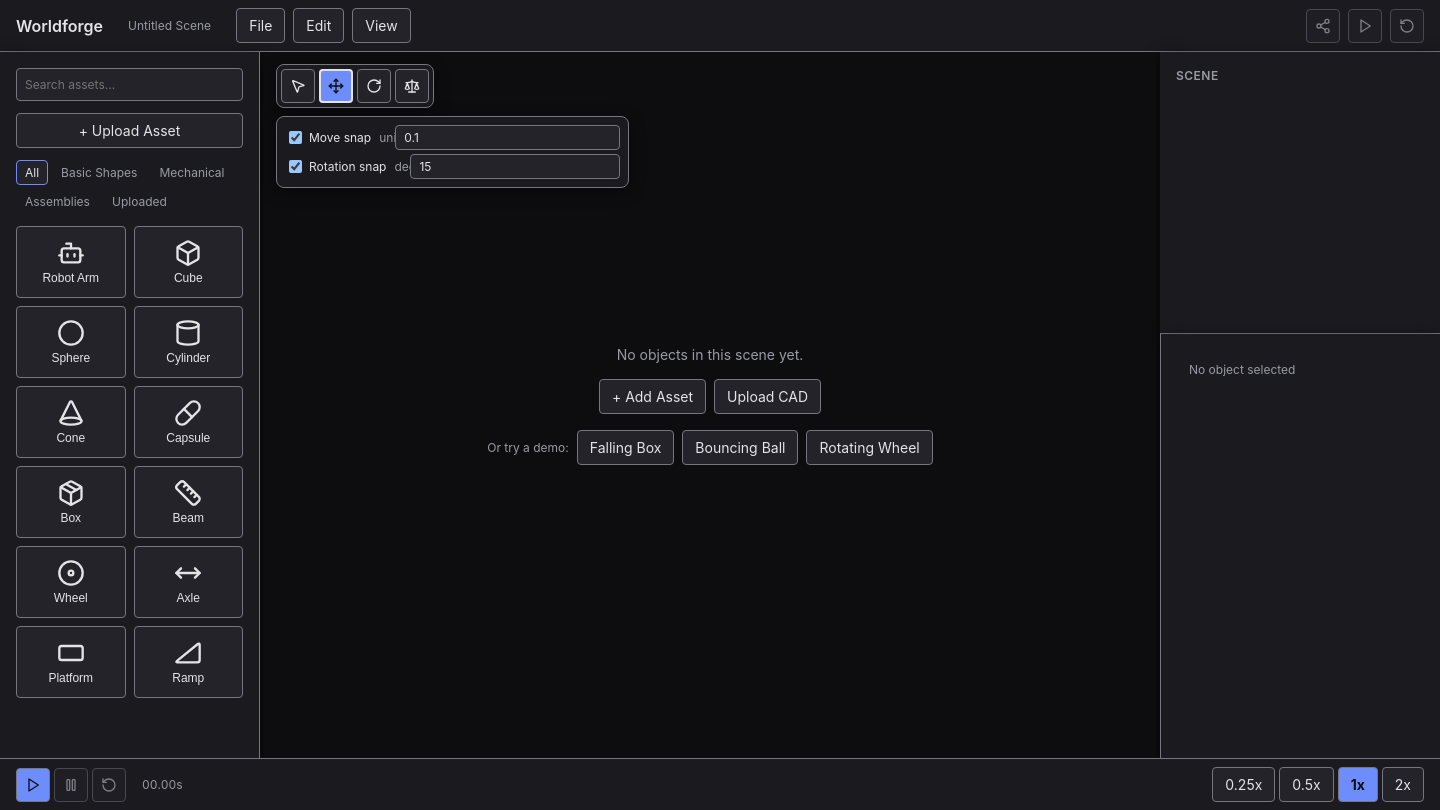
Test: AppShell › opens a File menu dropdown and closes it on Escape
The image size is (1440, 810).
Click the button "File" at (261, 26), box [236,8,285,43]
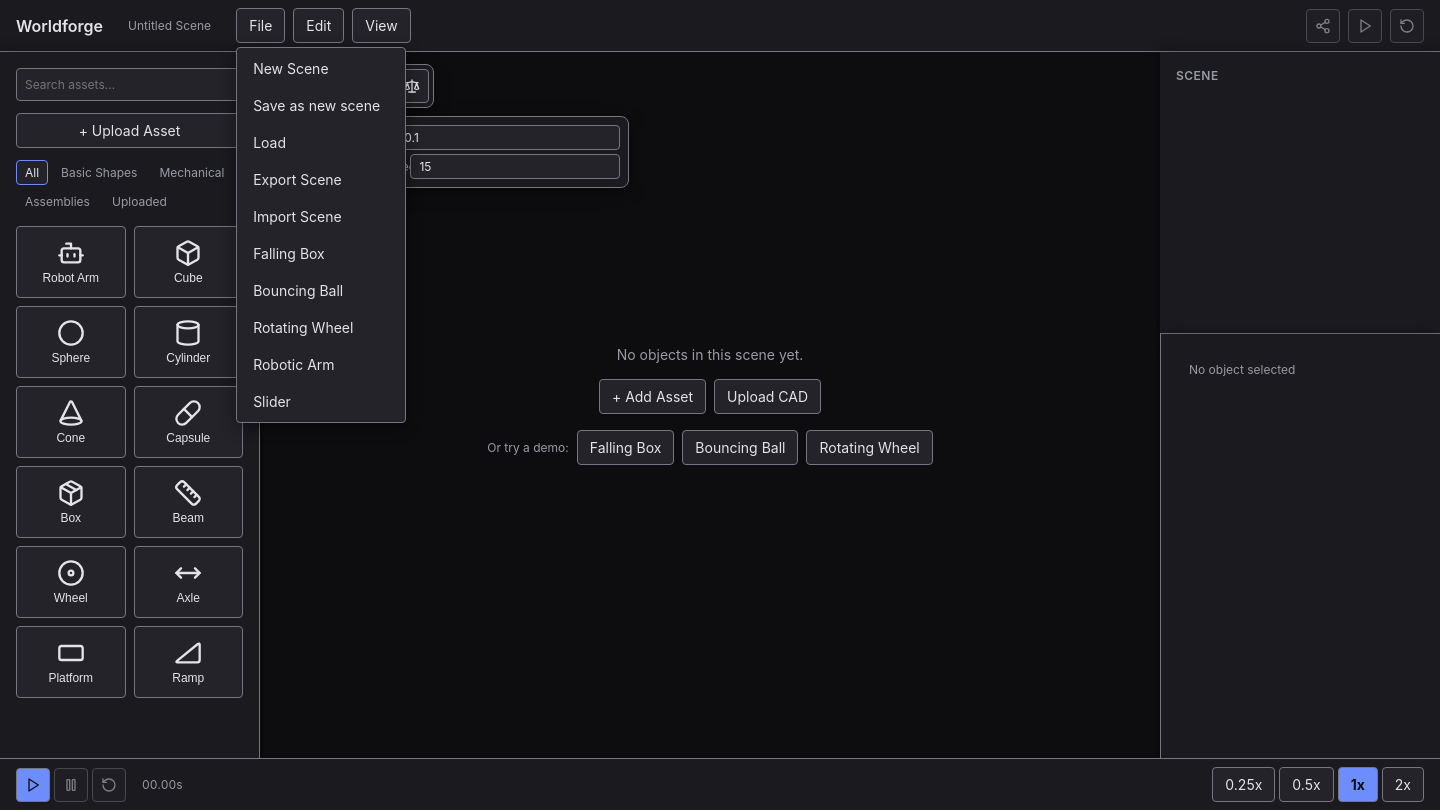
Check: the menu is shown, box [236,47,406,423]
Press Escape
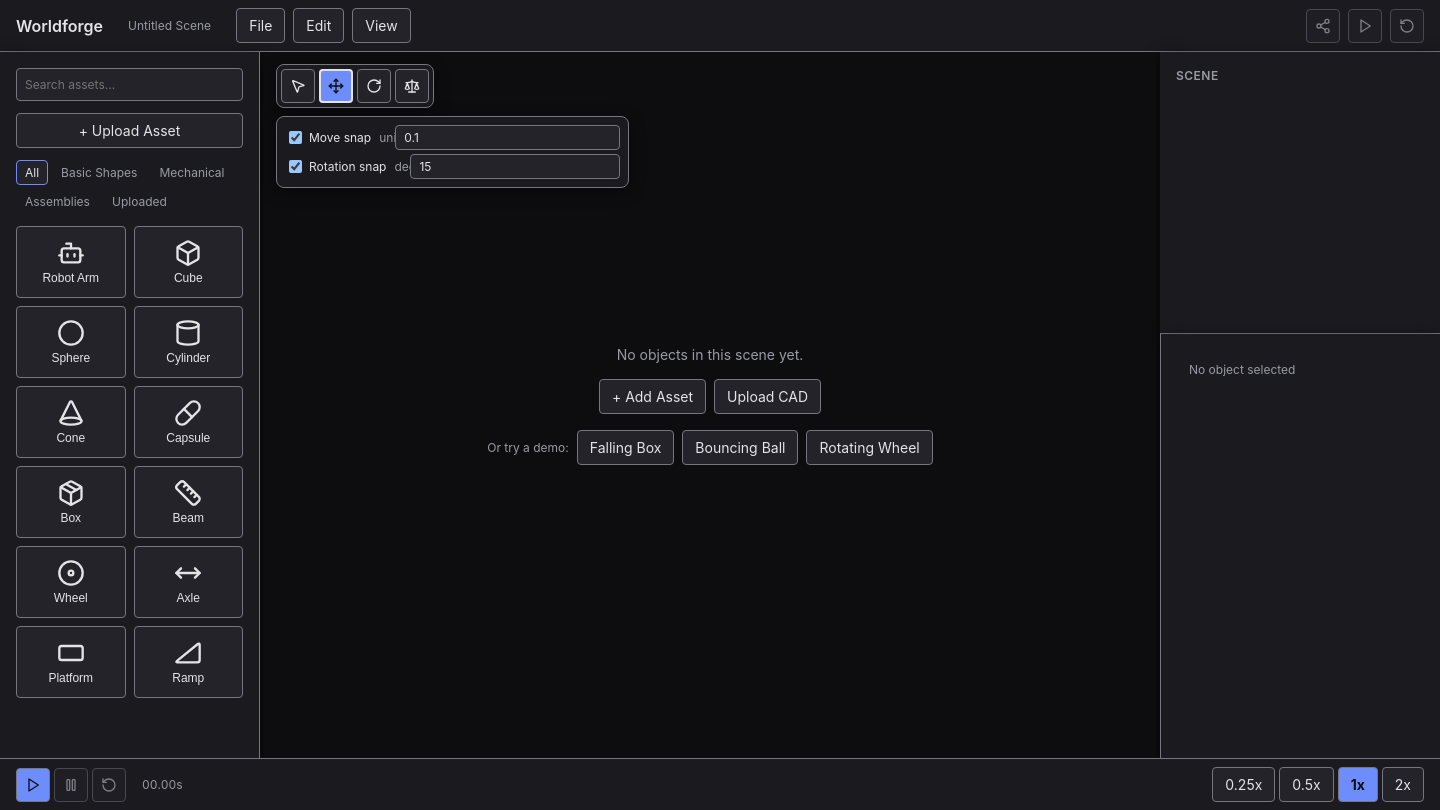
Check: the menu is gone
